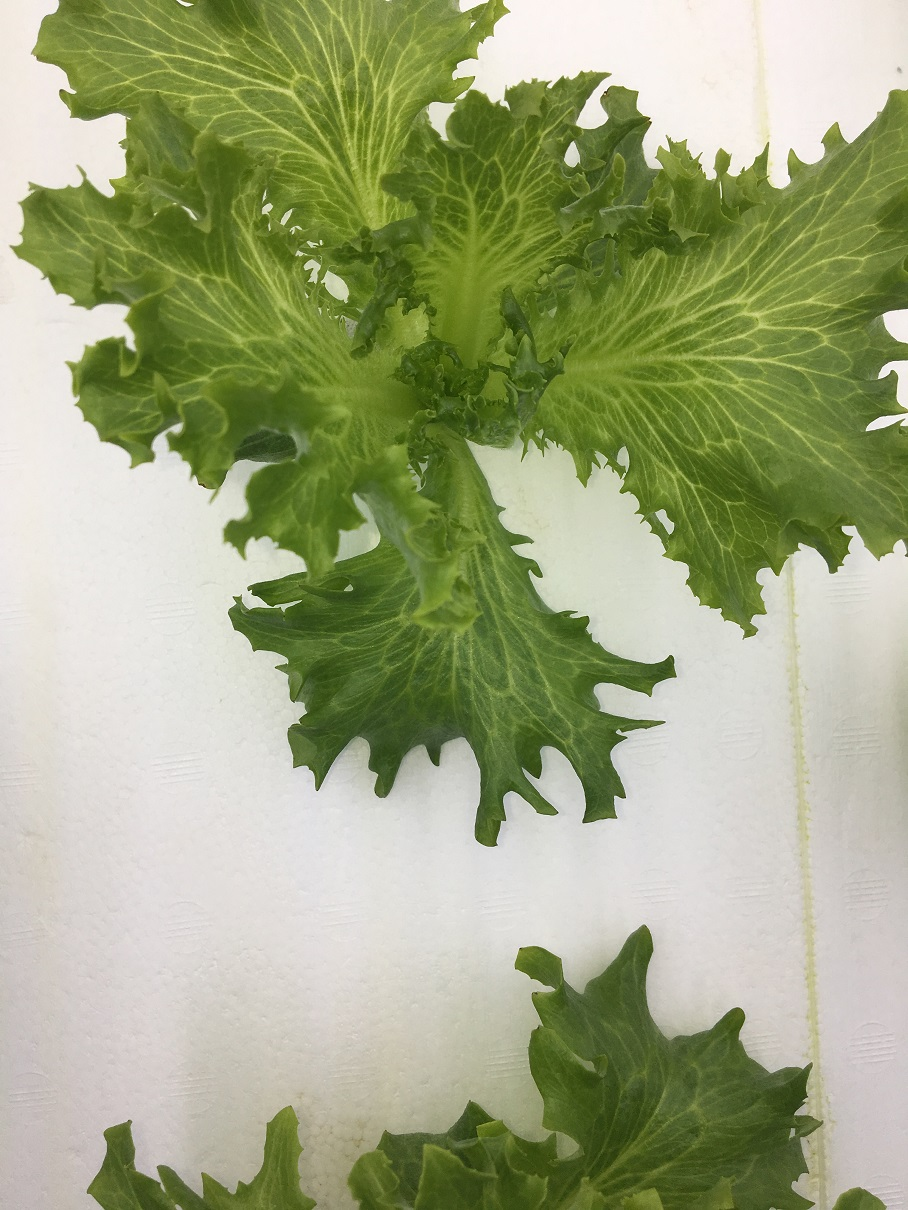tipburn: (185, 470, 221, 497), (643, 105, 665, 131), (603, 83, 620, 103), (513, 937, 530, 957), (525, 987, 547, 1000)
